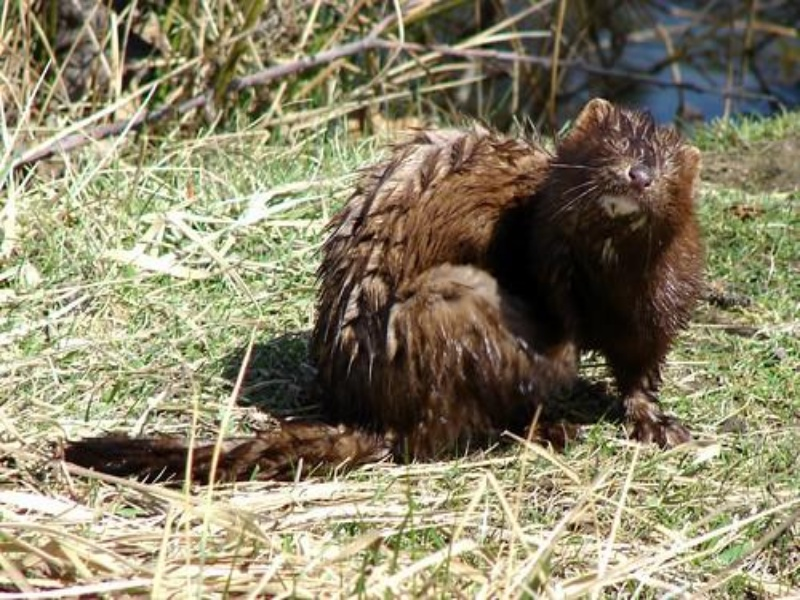minkish: (49, 98, 713, 496)
